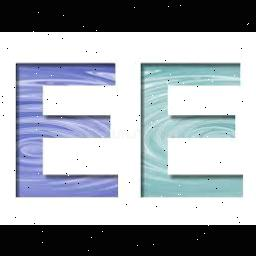e: (137, 61, 247, 197), (12, 60, 120, 198)
